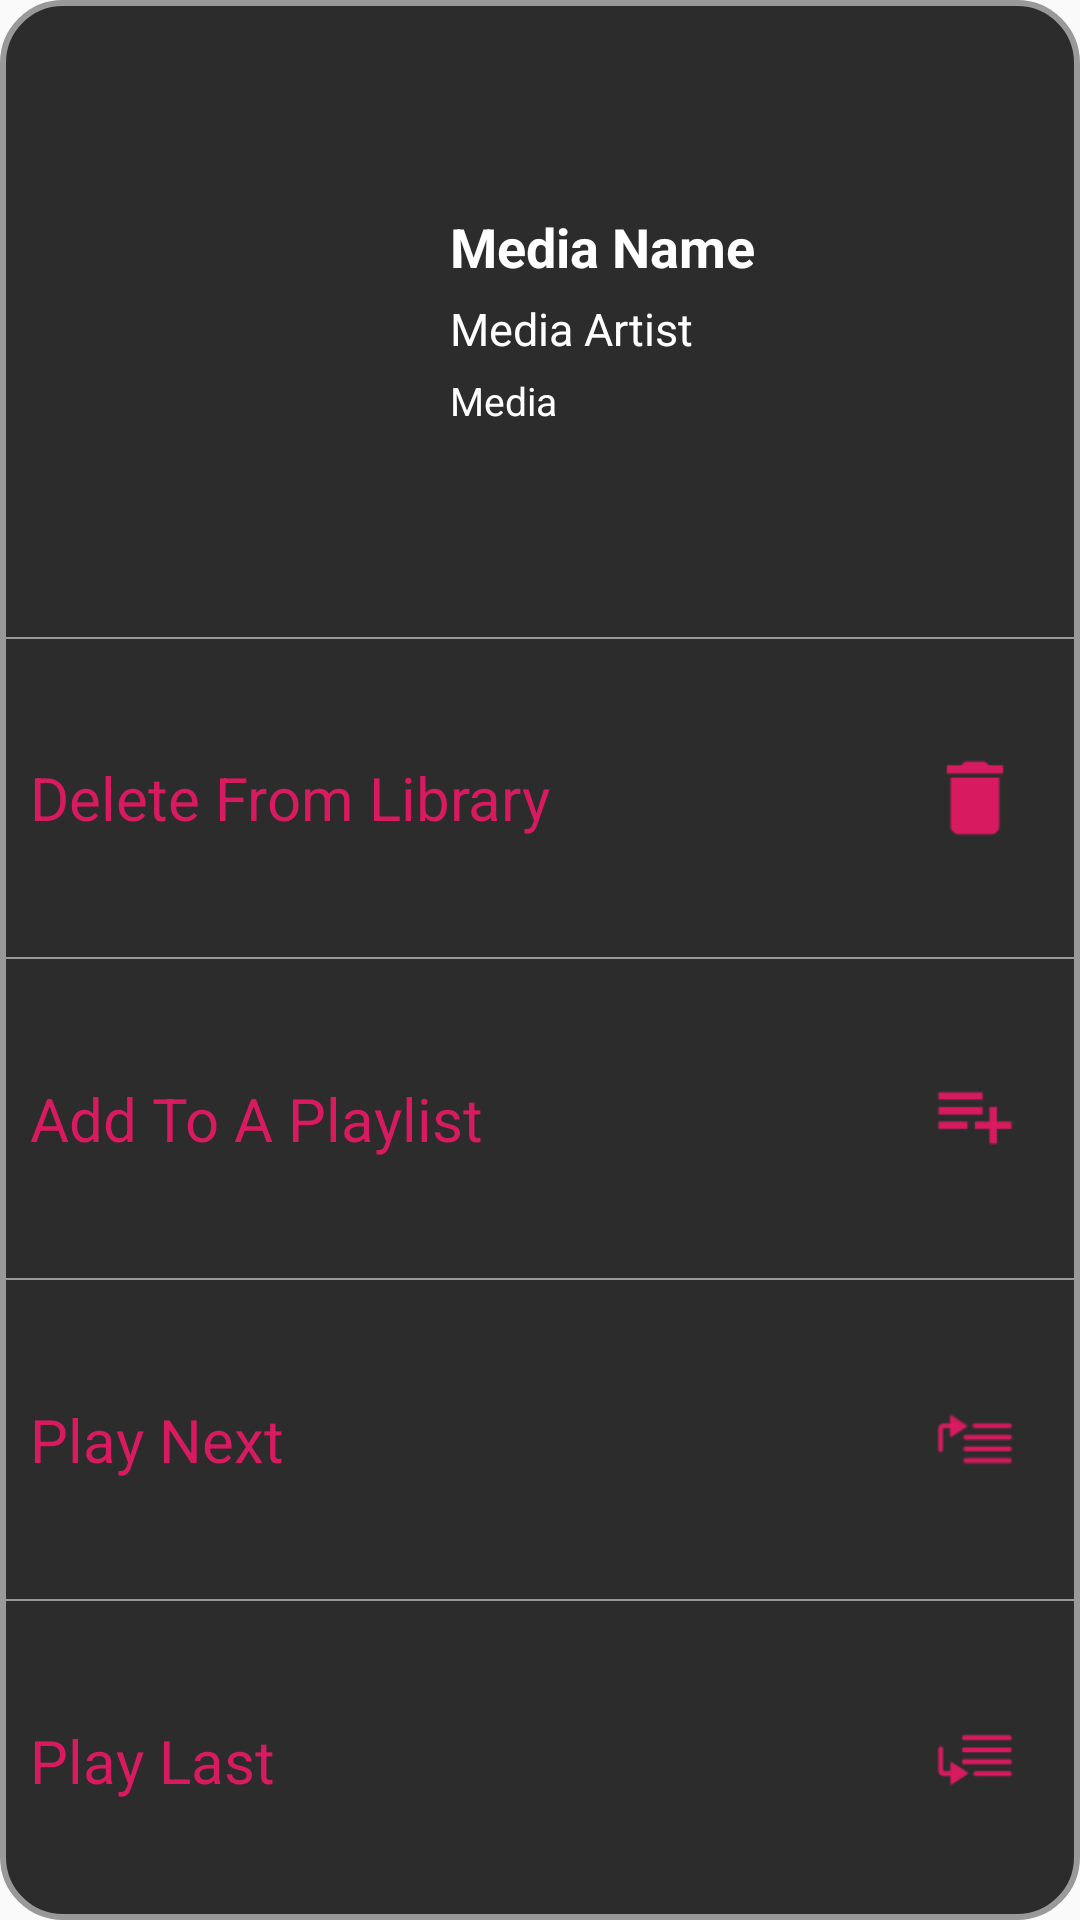

Locate icon controls on the screen. Image size 1080x1920, boxes as (x1, y1, x2, y2).
delete: (946, 761, 1004, 835)
play last: (937, 1734, 1013, 1785)
play next: (937, 1414, 1013, 1464)
playlist add: (937, 1091, 1013, 1145)
